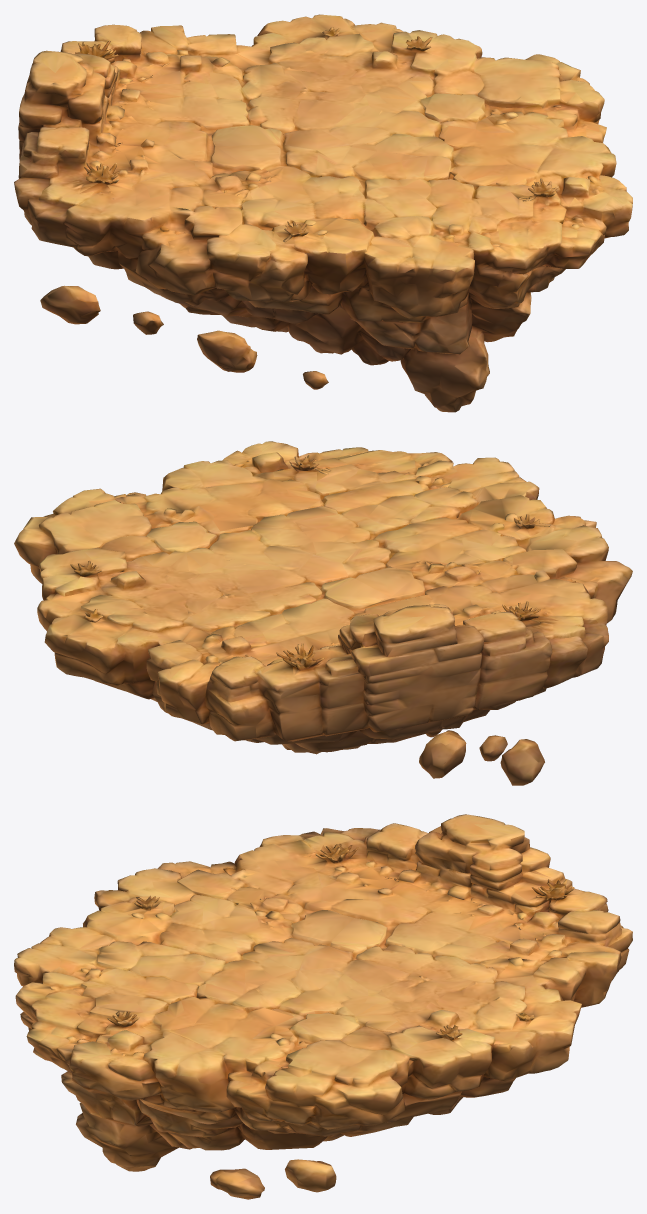
Rendered from R1_Island_Meadow.fbx.
3 views of the same model, one above another, from view 1: azimuth 30°, elevation 25°; view 2: azimuth 150°, elevation 25°; view 3: azimuth 270°, elevation 25° (orthographic). The views are drawn at different scales.
Parts seen in each view (by area): view 1: R1_Island_Meadow; view 2: R1_Island_Meadow; view 3: R1_Island_Meadow.
Boxes of the visible parts, bbox=[...] form: R1_Island_Meadow: bbox=[14, 14, 632, 412]; R1_Island_Meadow: bbox=[14, 441, 632, 785]; R1_Island_Meadow: bbox=[14, 814, 632, 1199].
Size of the model in its own units: 900 by 400 by 900.
Materials: 1 (1 with a texture image).
